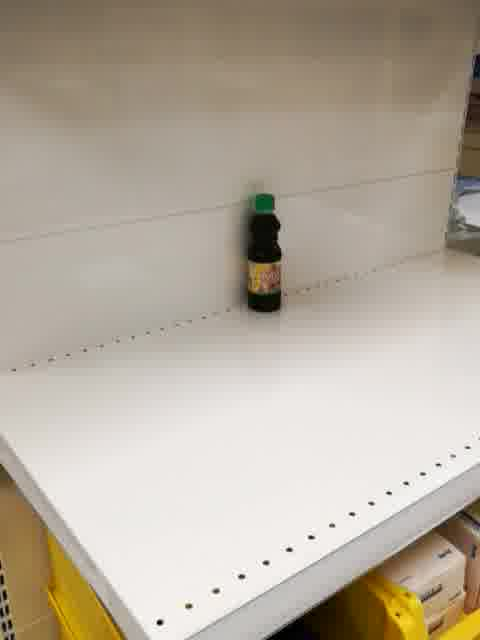cookingoil: (245, 191, 283, 312)
